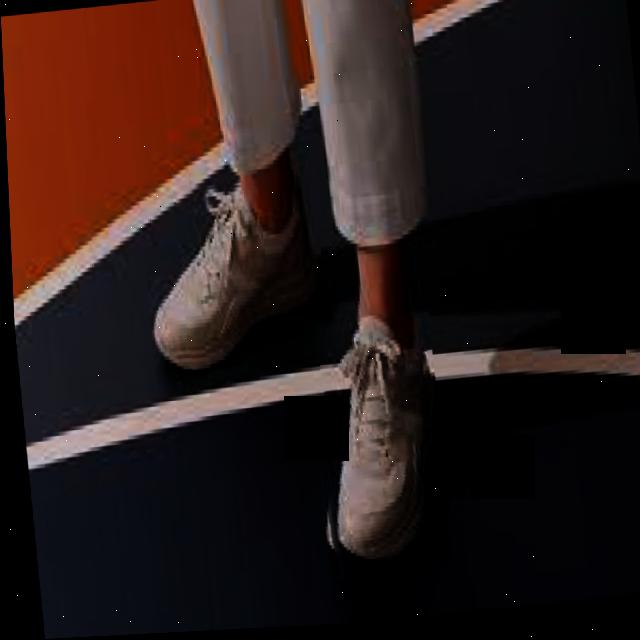shoe: (297, 314, 448, 585), (132, 176, 328, 376)
